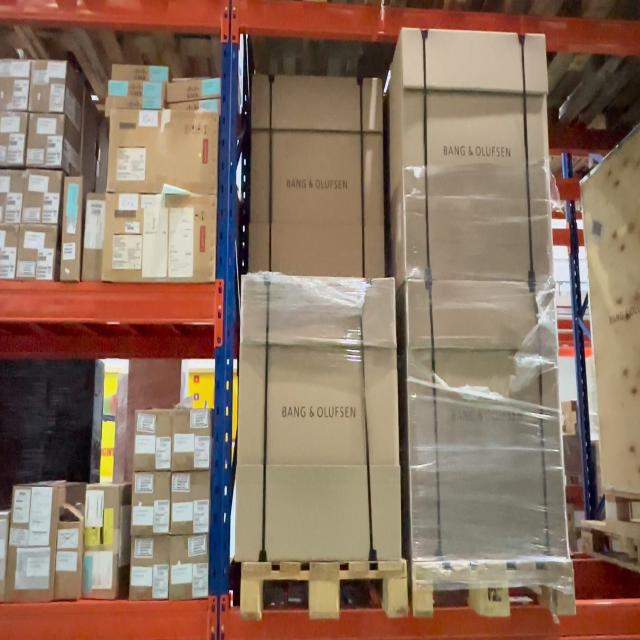box: (242, 278, 395, 568), (409, 287, 555, 565), (404, 32, 545, 278), (251, 81, 384, 273)
